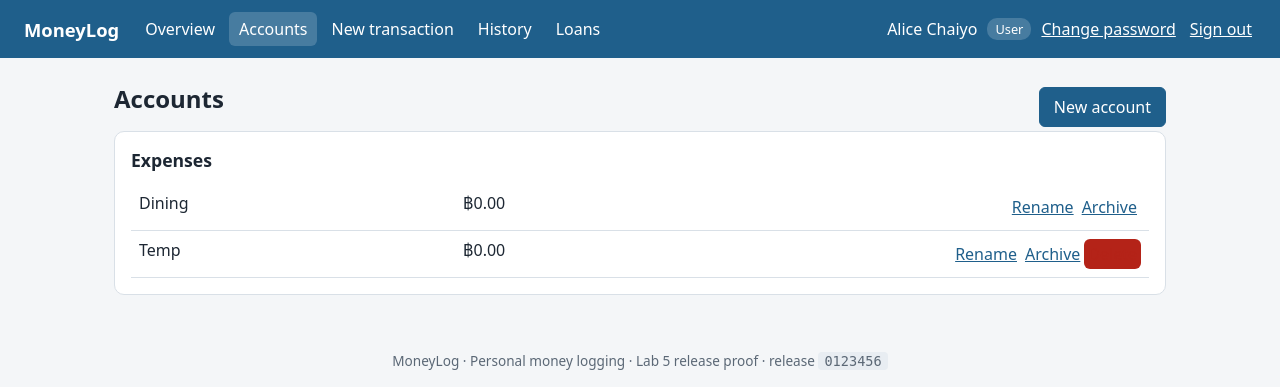
Test case: TEST-67 account management on the Accounts page (AC-50) › offers Delete only for unused accounts and shows the in-use error
Click the button with aria-label "Delete Temp" at point(1113, 254), box [1084,239,1141,269]
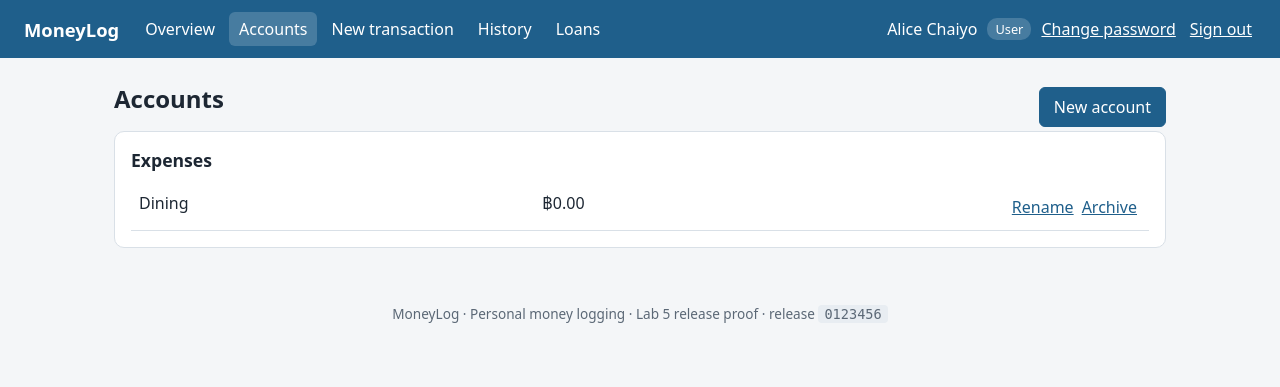
Check: the text "Temp" is gone
